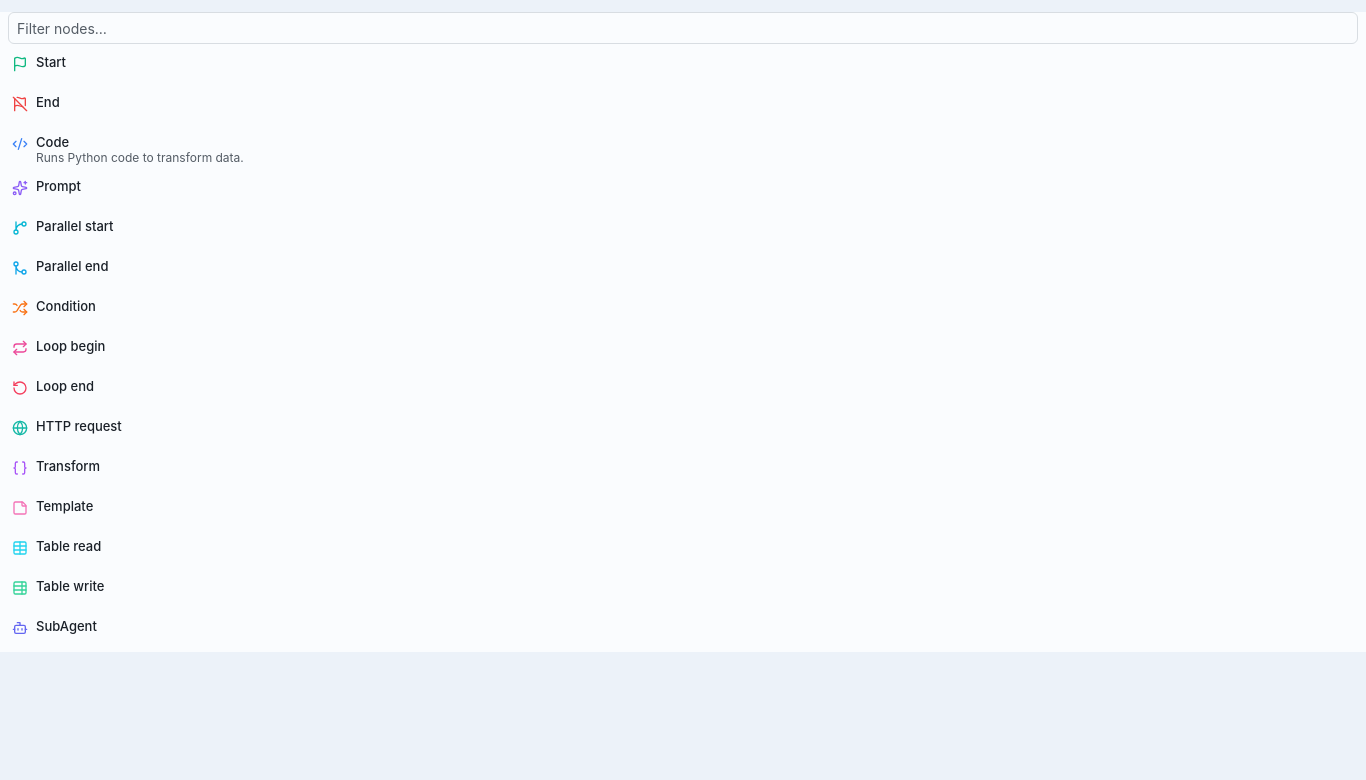
Test case: NodesSection › filters by type/label/description
Type "code" into the field with placeholder "Filter nodes…". click: (683, 28)
box: x1=8 y1=12 x2=1358 y2=44
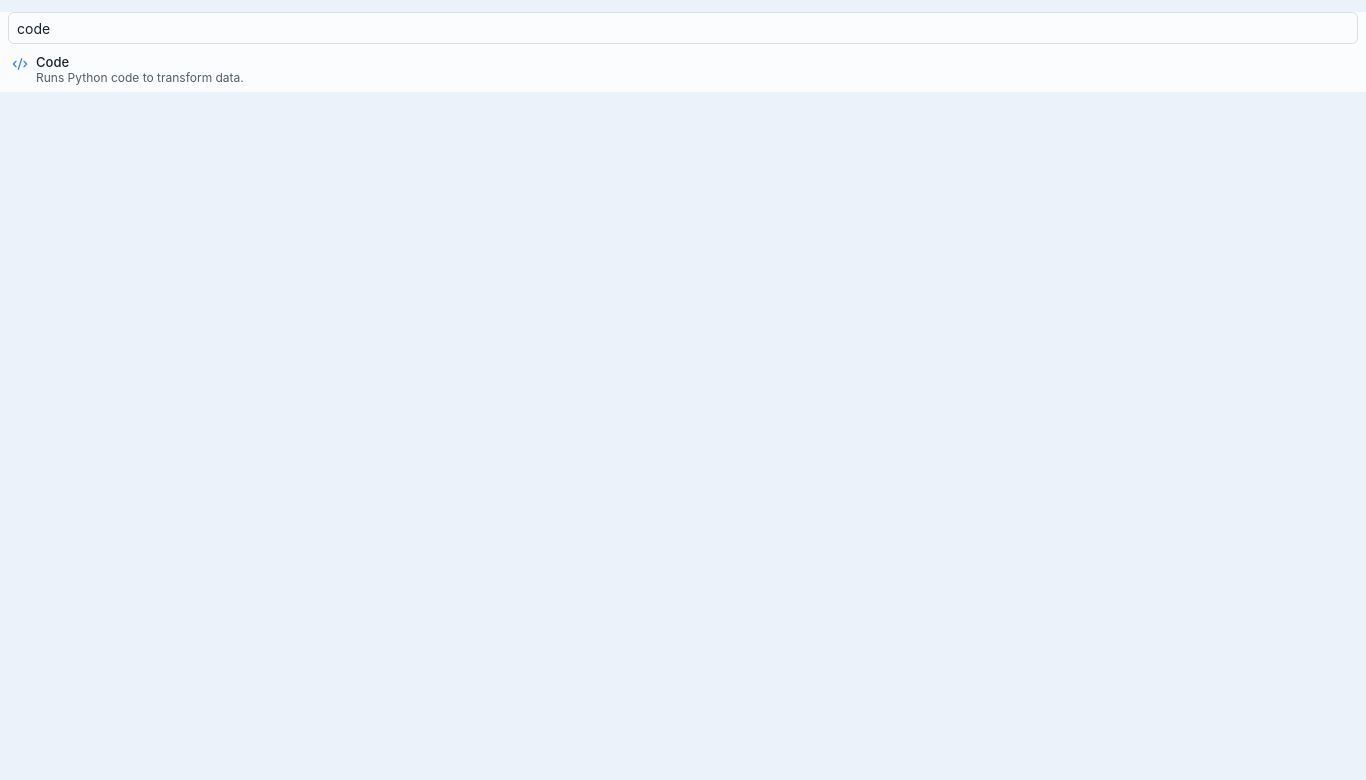
Expected: the text "Code" is shown, x1=36 y1=54 x2=69 y2=70
Now the button "Prompt" is gone
